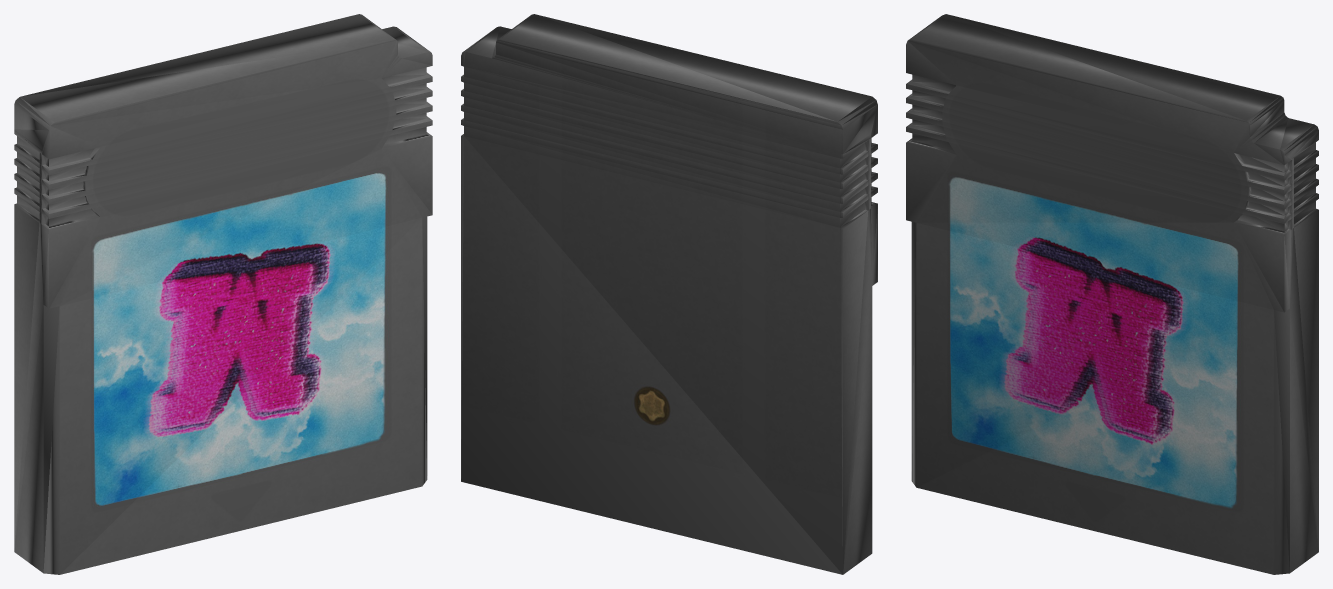
The picture shows the model from 3 angles, left to right: view 1: azimuth 30°, elevation 25°; view 2: azimuth 150°, elevation 25°; view 3: azimuth 330°, elevation 25°; orthographic projection.
Visible parts, largest first — view 1: Card_Low__0; view 2: Card_Low__0; view 3: Card_Low__0.
Part boxes in pixels (box(x1,y1,x2,y2)): Card_Low__0: box(14, 14, 432, 574); Card_Low__0: box(461, 14, 877, 574); Card_Low__0: box(906, 14, 1318, 574).
Size of the model in its own units: 2.32 by 2.62 by 0.3664.
1 material, 1 textured.
